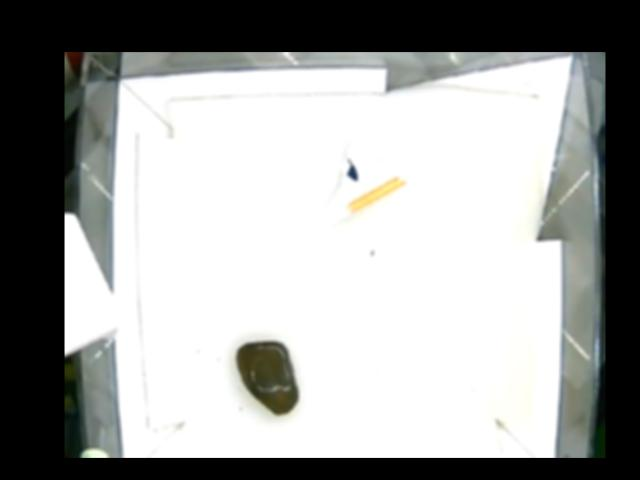China: (309, 137, 407, 227)
Pebble: (231, 338, 299, 418)
